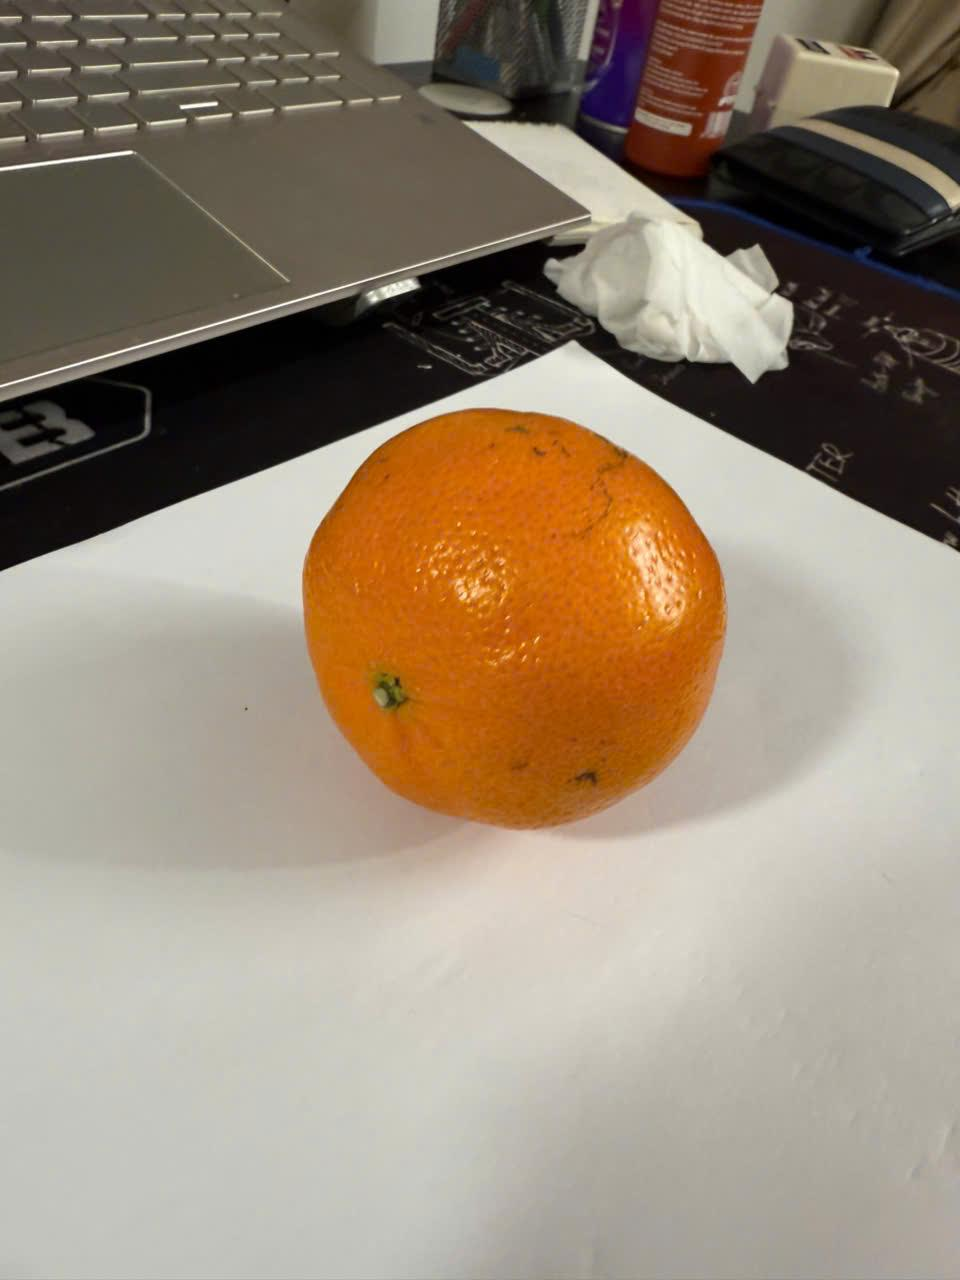orange: (290, 395, 732, 838)
